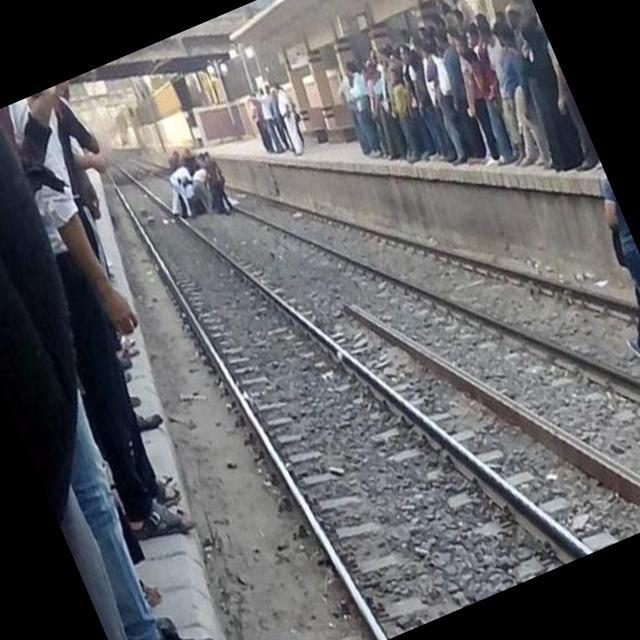person: (554, 161, 640, 392), (491, 0, 597, 174), (424, 26, 499, 166), (455, 42, 526, 164), (338, 56, 398, 162), (375, 64, 436, 165), (264, 78, 314, 158), (193, 146, 234, 218), (250, 84, 291, 155), (240, 88, 278, 156)
